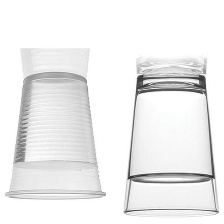glass: (118, 66, 224, 220), (0, 64, 108, 208)
